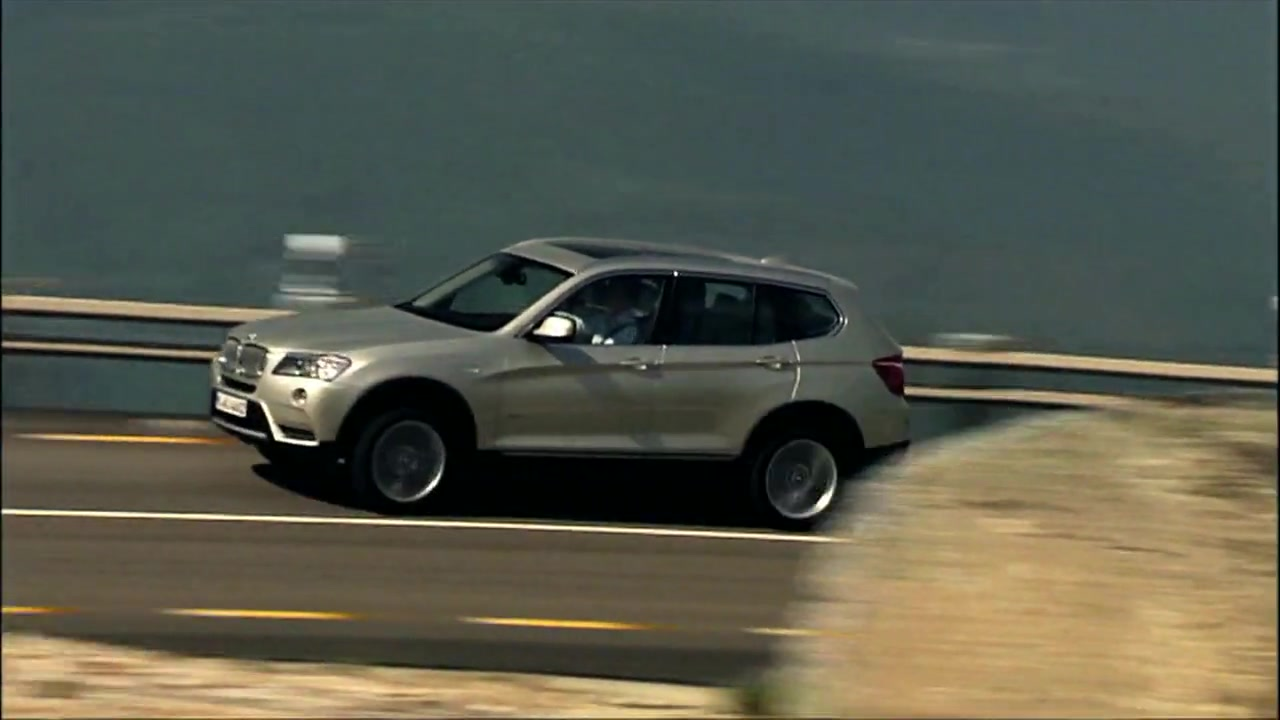car: (209, 230, 921, 534)
